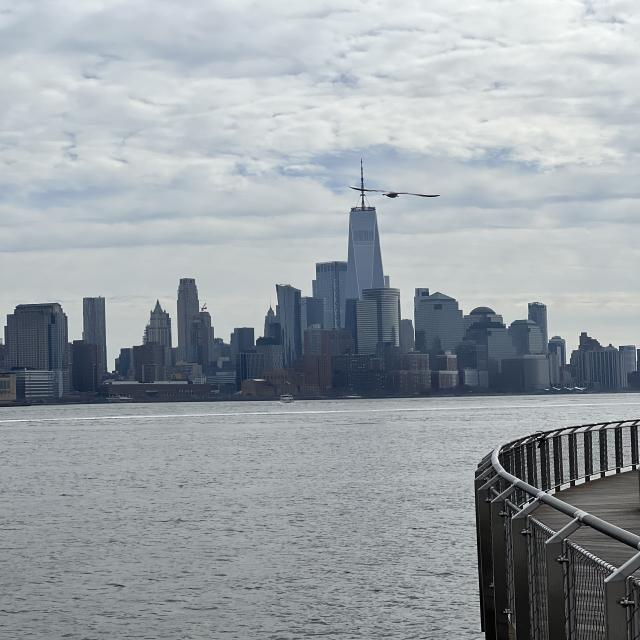WTC: (346, 162, 384, 288)
